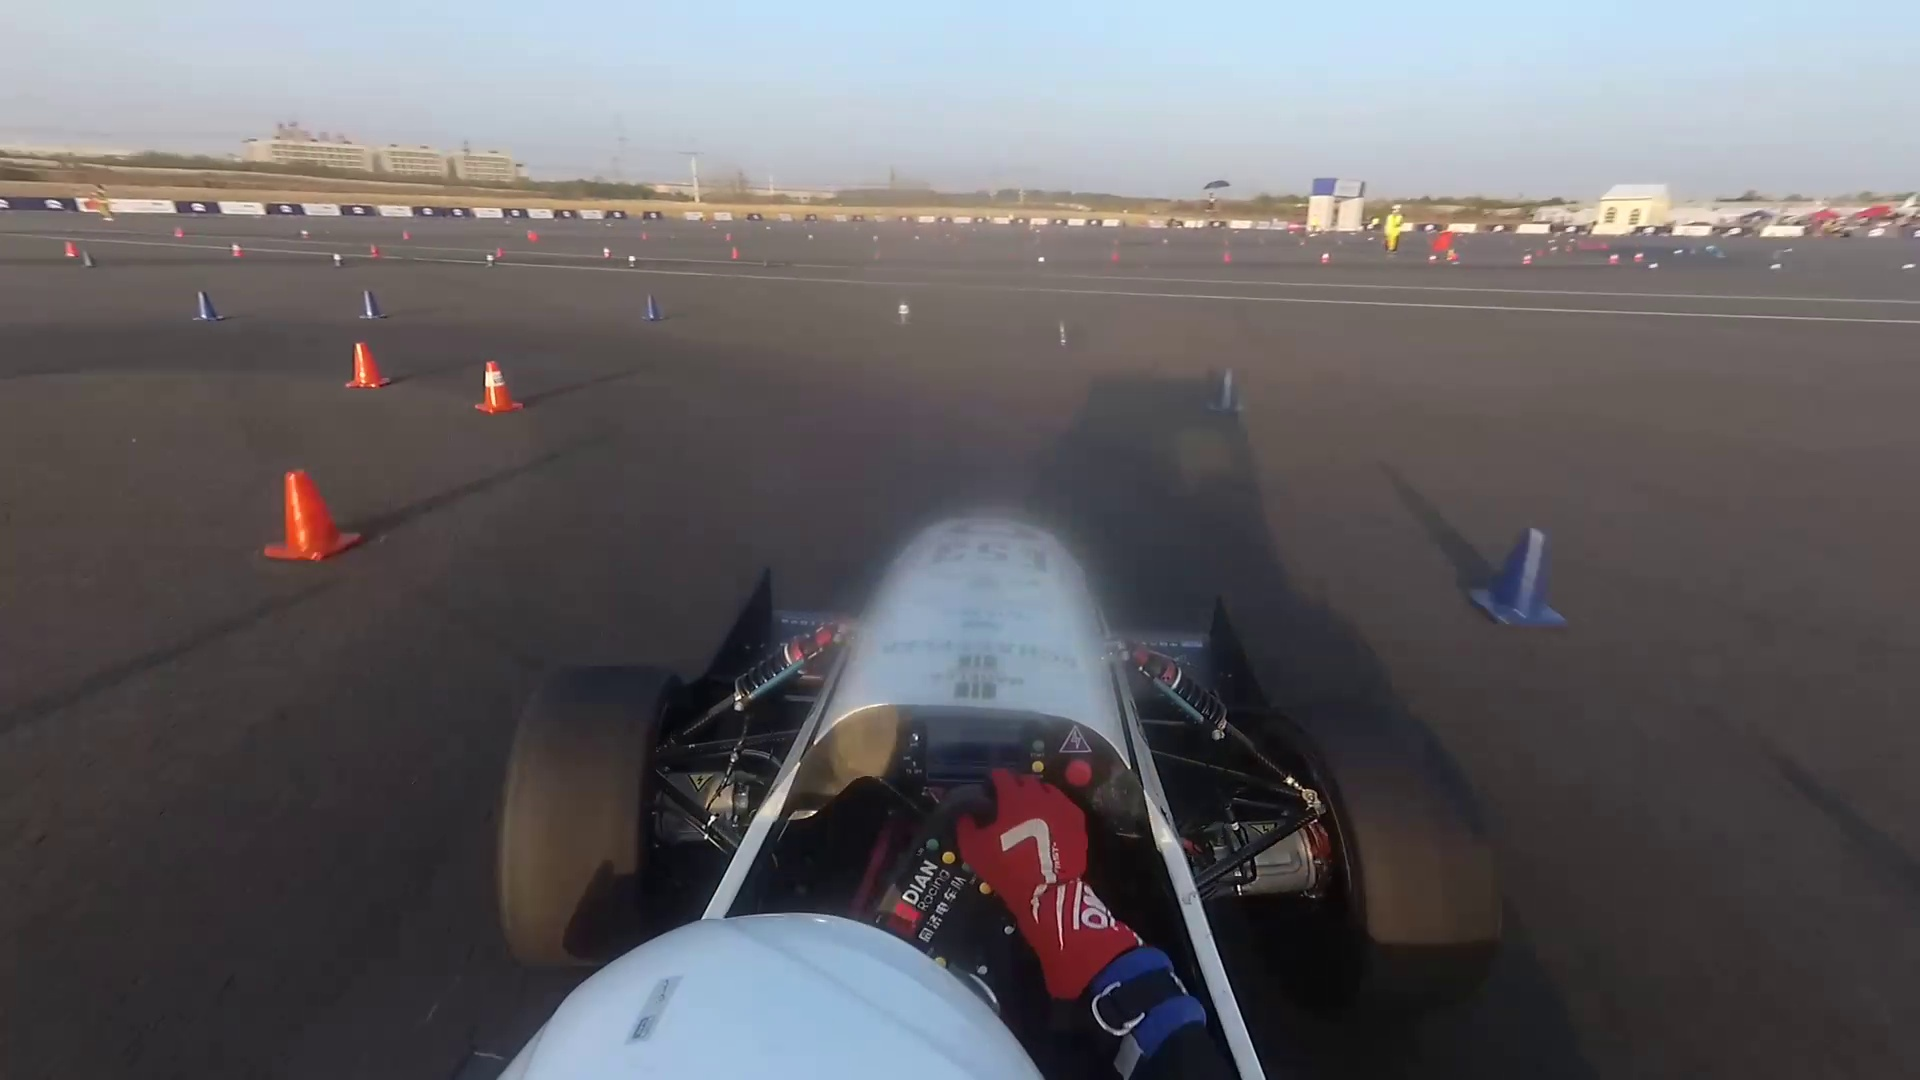blue_cone: (1474, 527, 1548, 628), (1207, 369, 1240, 415), (356, 290, 384, 320), (195, 294, 222, 322), (642, 291, 659, 324), (894, 302, 913, 328), (1056, 320, 1068, 349), (625, 255, 641, 272), (331, 251, 345, 268), (83, 251, 94, 269), (485, 255, 496, 266)
red_cone: (272, 477, 348, 562), (469, 363, 517, 415), (351, 343, 396, 394), (65, 243, 80, 257), (367, 247, 382, 260), (232, 245, 244, 258), (731, 247, 741, 261), (603, 247, 612, 260)
